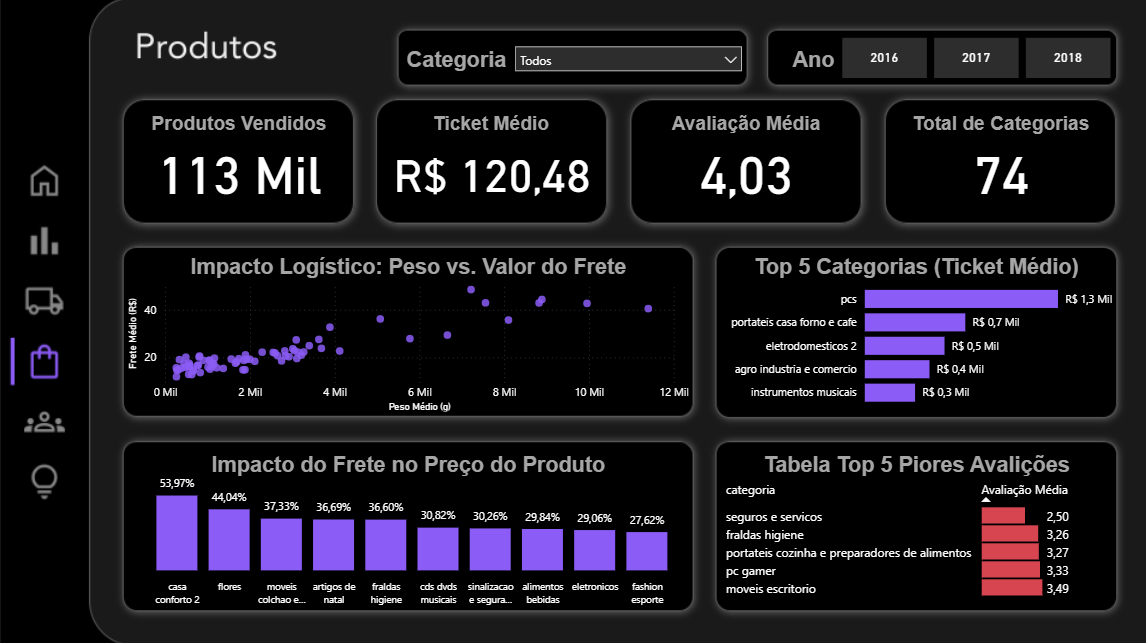

The dashboard page shown, as its layout file describes it:
{"tool":"powerbi","page":{"name":"Produtos","canvas":[1280,720],"ordinal":3},"visuals":[{"type":"card","fields":{"Values":["Tabela de Medidas.Total Categorias"]},"box":[976.7,125,273.3,125],"z":0},{"type":"card","fields":{"Values":["Tabela de Medidas.Total Produtos Vendidos"]},"box":[130.4,125.7,273.6,124.1],"z":1000},{"type":"card","fields":{"Values":["Tabela de Medidas.Avaliação Média"]},"box":[693.5,125.7,273.6,124.1],"z":2000},{"type":"textbox","box":[123.3,120,286.7,38.3],"z":3000},{"type":"textbox","box":[969.4,120.7,286.7,38.3],"z":4000},{"type":"textbox","box":[403.3,120,286.7,38.3],"z":5000},{"type":"textbox","box":[687,120.7,286.7,38.3],"z":6000},{"type":"scatterChart","fields":{"Category":["olist vw_pedidos_detalhe.categoria"],"X":["Avg(olist vw_pedidos_detalhe.peso_gramas)"],"Y":["Avg(olist vw_pedidos_detalhe.valor_frete)"]},"box":[138.4,303.8,633.1,159.1],"z":7000},{"type":"textbox","box":[138.4,276.8,633.1,38.2],"z":8000},{"type":"clusteredColumnChart","fields":{"Category":["olist vw_pedidos_detalhe.categoria"],"Y":["Tabela de Medidas.% Peso Frete"]},"box":[138.4,515.4,633.1,165.4],"z":9000},{"type":"textbox","box":[138.4,496.3,633.1,38.2],"z":10000},{"type":"clusteredBarChart","fields":{"Category":["olist vw_pedidos_detalhe.categoria"],"Y":["Tabela de Medidas.Ticket Medio"]},"box":[796.9,299,445.4,163.8],"z":11000},{"type":"textbox","box":[796.9,276.8,445.4,38.2],"z":12000},{"type":"tableEx","fields":{"Values":["olist vw_pedidos_detalhe.categoria","Tabela de Medidas.Avaliação Média"]},"box":[797.5,529.1,444.1,166.3],"z":13000},{"type":"textbox","box":[797.5,497,446,37.8],"z":14000},{"type":"textbox","box":[833.3,46.7,143.3,46.7],"z":15000},{"type":"slicer","fields":{"Values":["olist vw_pedidos_detalhe.categoria"]},"box":[563.1,41.4,272,55.7],"z":16000},{"type":"textbox","box":[437.4,46.1,143.2,47.7],"z":17000},{"type":"card","fields":{"Values":["Tabela de Medidas.Ticket Medio por Produto"]},"box":[412,127.2,272,124.1],"z":18000},{"type":"advancedSlicerVisual","fields":{"Values":["dCalendario.Ano"]},"box":[931.7,36.7,308.3,55],"z":19000},{"type":"actionButton","box":[15,178.8,70,48.8],"z":20000},{"type":"actionButton","box":[15,240,70,51.2],"z":21000},{"type":"actionButton","box":[15,307.5,70,48.8],"z":22000},{"type":"actionButton","box":[15,378.8,70,48.8],"z":23000},{"type":"actionButton","box":[15,447.5,70,48.8],"z":24000},{"type":"actionButton","box":[15,512.5,70,48.8],"z":25000}]}

Visuals, with their boxes on the page's 1280x720 design canvas (x1, y1, x2, y2). These are canvas units, not pixel positions in the 1146x643 screenshot, which may show the page scaled, cropped or inside an application window:
card - Tabela de Medidas.Total Categorias: l=977, t=125, r=1250, b=250
card - Tabela de Medidas.Total Produtos Vendidos: l=130, t=126, r=404, b=250
card - Tabela de Medidas.Avaliação Média: l=694, t=126, r=967, b=250
textbox: l=123, t=120, r=410, b=158
textbox: l=969, t=121, r=1256, b=159
textbox: l=403, t=120, r=690, b=158
textbox: l=687, t=121, r=974, b=159
scatterChart - olist vw_pedidos_detalhe.categoria x Avg(olist vw_pedidos_detalhe.peso_gramas): l=138, t=304, r=772, b=463
textbox: l=138, t=277, r=772, b=315
clusteredColumnChart - olist vw_pedidos_detalhe.categoria x Tabela de Medidas.% Peso Frete: l=138, t=515, r=772, b=681
textbox: l=138, t=496, r=772, b=534
clusteredBarChart - olist vw_pedidos_detalhe.categoria x Tabela de Medidas.Ticket Medio: l=797, t=299, r=1242, b=463
textbox: l=797, t=277, r=1242, b=315
tableEx - olist vw_pedidos_detalhe.categoria x Tabela de Medidas.Avaliação Média: l=798, t=529, r=1242, b=695
textbox: l=798, t=497, r=1244, b=535
textbox: l=833, t=47, r=977, b=93
slicer - olist vw_pedidos_detalhe.categoria: l=563, t=41, r=835, b=97
textbox: l=437, t=46, r=581, b=94
card - Tabela de Medidas.Ticket Medio por Produto: l=412, t=127, r=684, b=251
advancedSlicerVisual - dCalendario.Ano: l=932, t=37, r=1240, b=92
actionButton: l=15, t=179, r=85, b=228
actionButton: l=15, t=240, r=85, b=291
actionButton: l=15, t=308, r=85, b=356
actionButton: l=15, t=379, r=85, b=428
actionButton: l=15, t=448, r=85, b=496
actionButton: l=15, t=512, r=85, b=561
